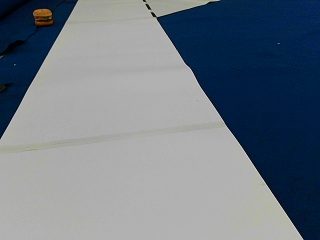burger: (32, 7, 53, 26)
